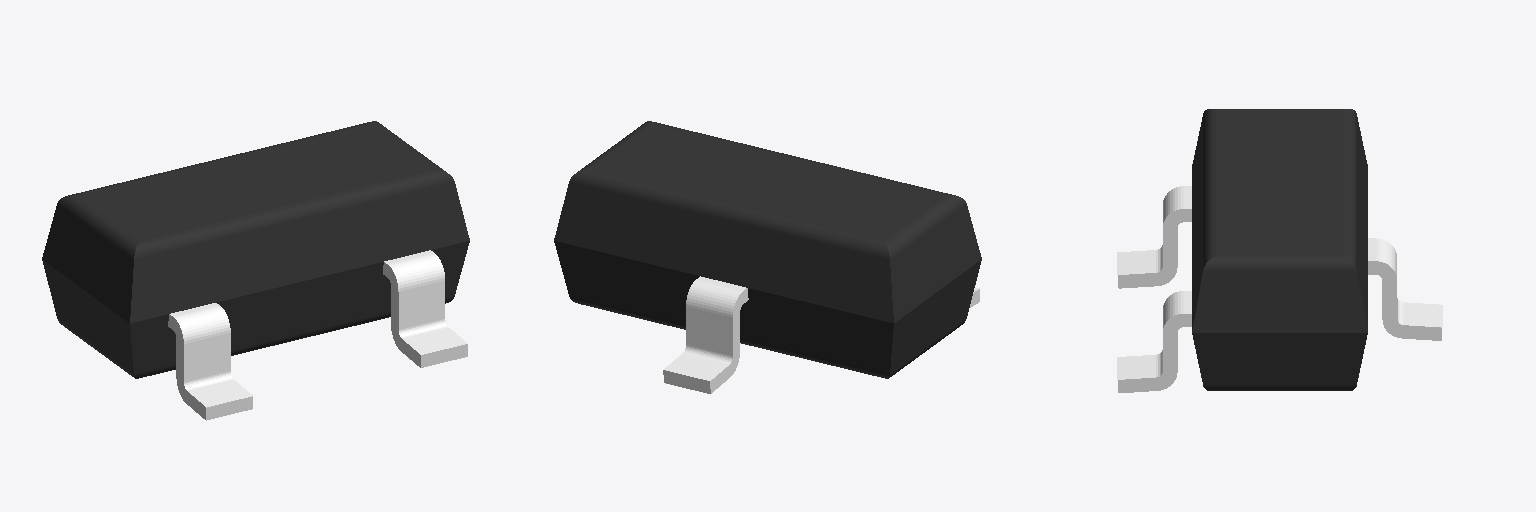
The model's file is FMMT718.obj.
The picture shows the model from 3 angles: view 1: azimuth 30°, elevation 25°; view 2: azimuth 150°, elevation 25°; view 3: azimuth 270°, elevation 25°; orthographic projection.
Visible parts, largest first — view 1: Solid1, Solid3, Solid2; view 2: Solid1, Solid4; view 3: Solid1, Solid4, Solid3, Solid2.
Boxes of the visible parts, x1=… form: Solid1: x1=42, y1=121, x2=469, y2=378; Solid3: x1=168, y1=303, x2=252, y2=420; Solid2: x1=383, y1=250, x2=467, y2=367; Solid1: x1=554, y1=121, x2=981, y2=378; Solid4: x1=663, y1=276, x2=748, y2=393; Solid1: x1=1192, y1=109, x2=1367, y2=390; Solid4: x1=1368, y1=238, x2=1442, y2=340; Solid3: x1=1117, y1=186, x2=1191, y2=288; Solid2: x1=1117, y1=291, x2=1191, y2=392.
Size of the model in its own units: 2.9 by 1.2 by 2.4.